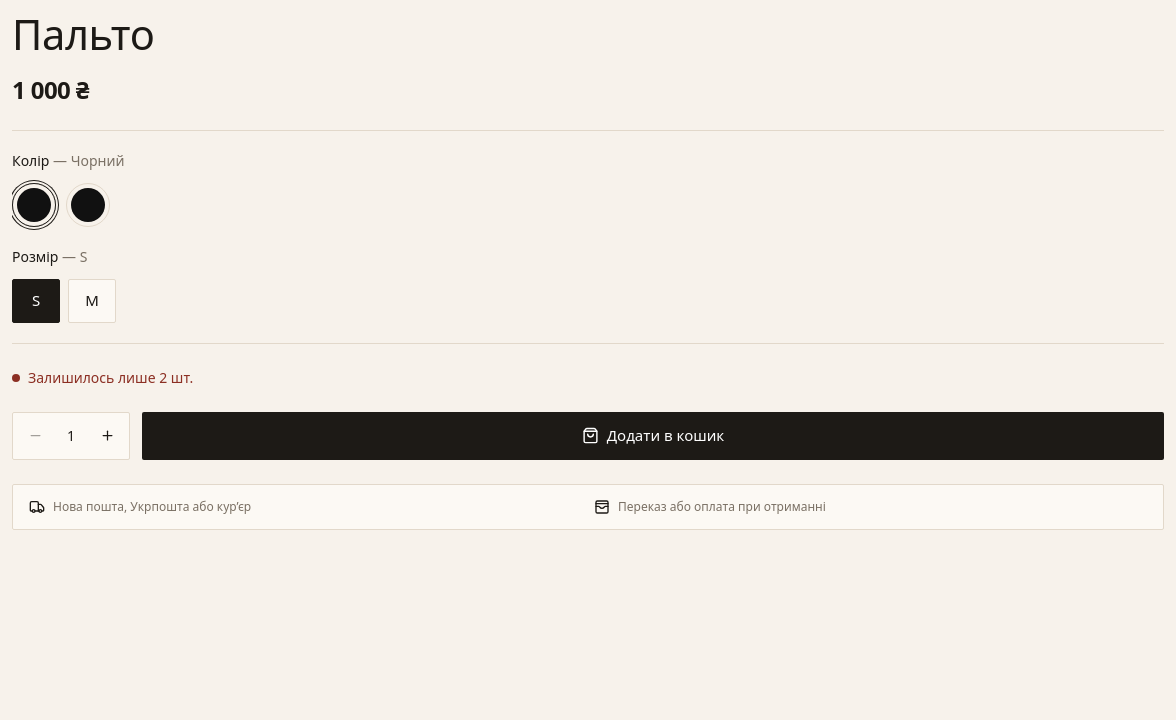
Scenario: ProductPurchase › marks sizes that are sold out in the chosen colour
Click the button named "Бежевий" at (88, 205), box 66,183 -> 110,227
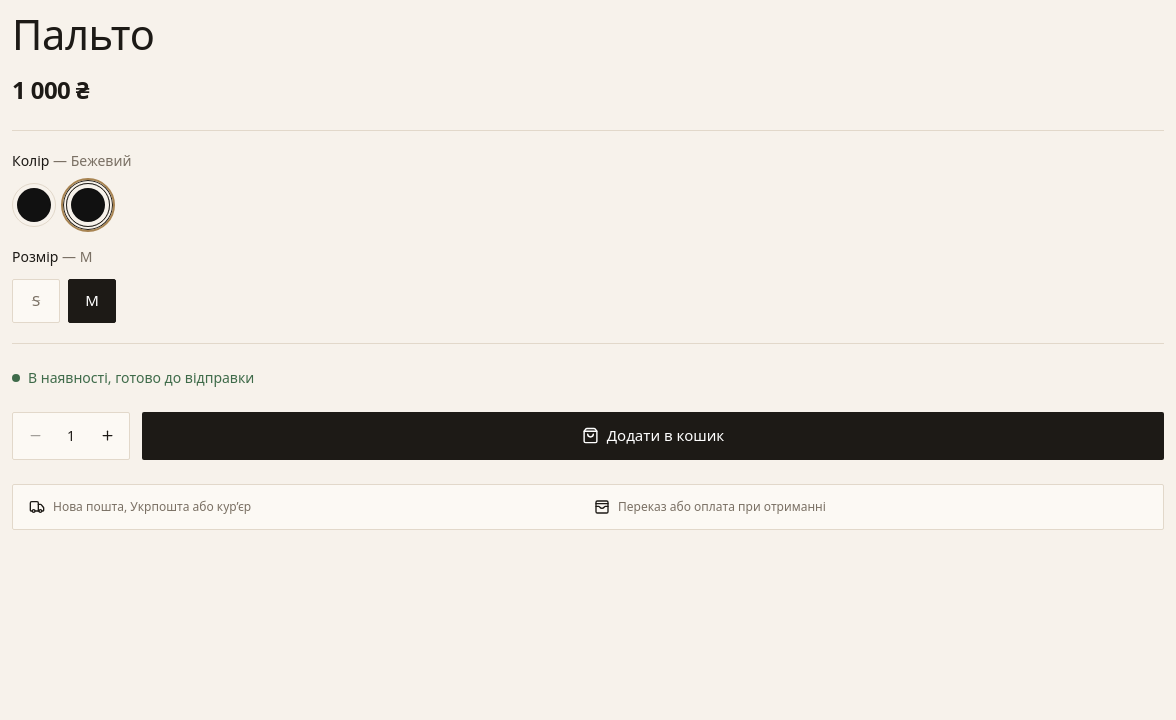
Now the button named "S, немає в наявності" is shown, box 12,279 -> 60,323
